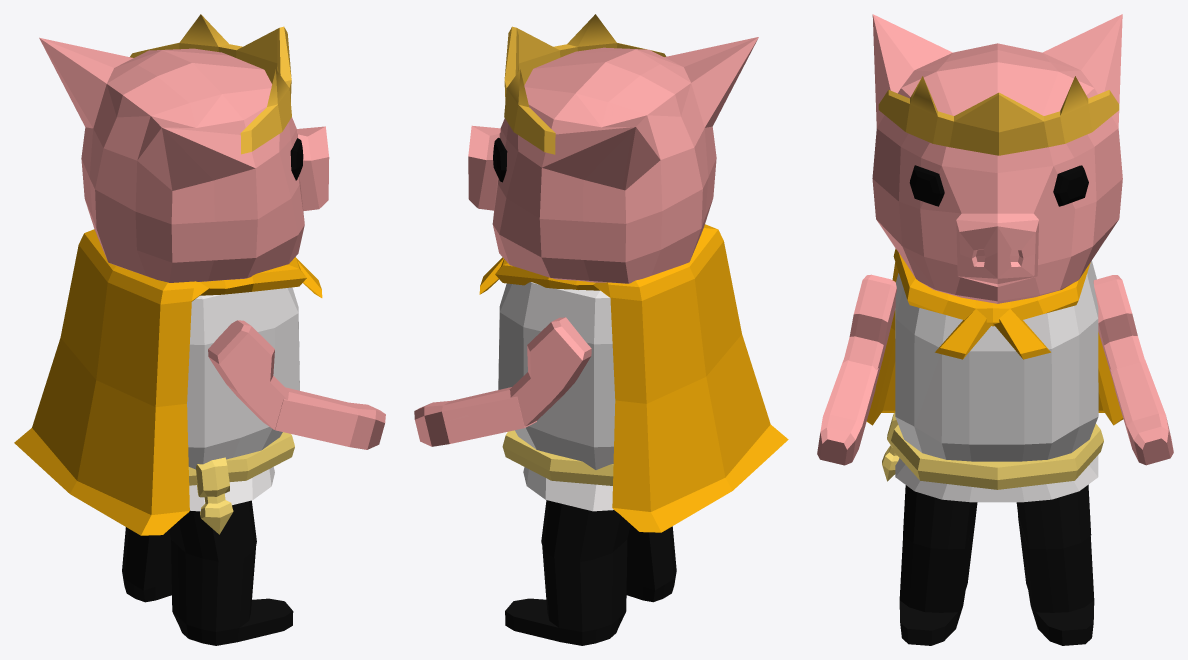
The model's file is shoat.glb.
3 views of the same model, side by side, from view 1: azimuth 30°, elevation 25°; view 2: azimuth 150°, elevation 25°; view 3: azimuth 270°, elevation 25° (orthographic).
Visible parts, largest first — view 1: shoat; view 2: shoat; view 3: shoat.
Part boxes in pixels (x1,y1,x2,y2): shoat: (14,14,385,645); shoat: (414,14,788,645); shoat: (817,14,1173,645).
Size of the model in its own units: 2.44 by 5.05 by 2.88.
Materials: 7 (1 with a texture image).
